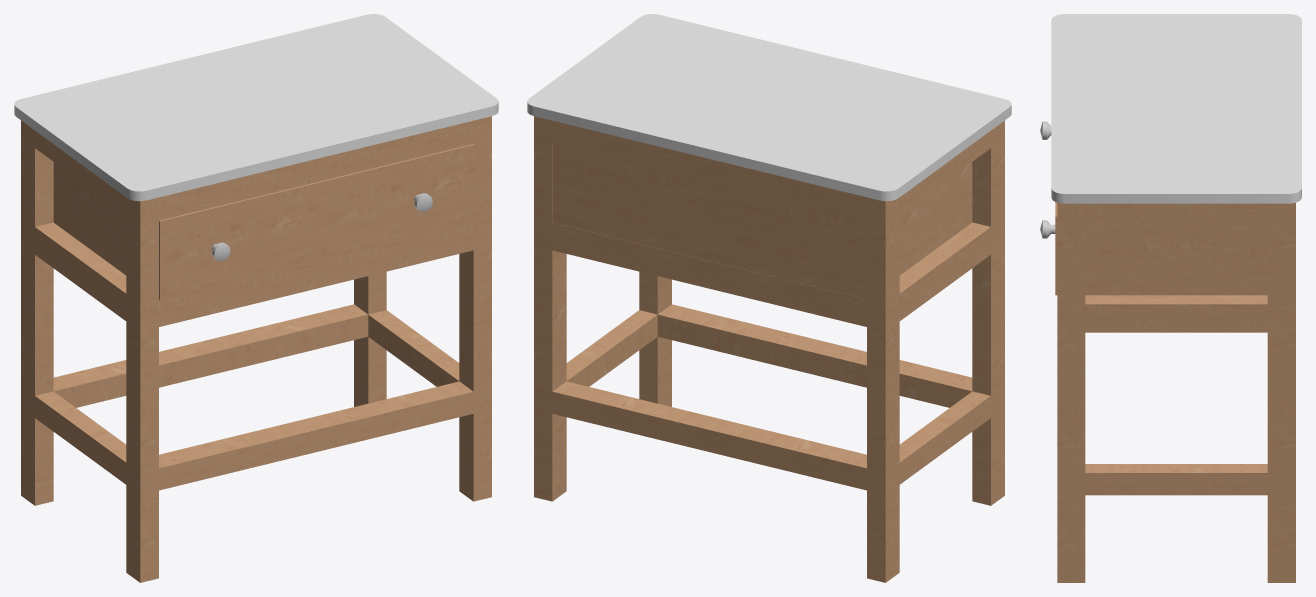
Rendered from bathroom_vanity_01.glb.
3 renders of one model, left to right at view 1: azimuth 30°, elevation 25°; view 2: azimuth 150°, elevation 25°; view 3: azimuth 270°, elevation 25°, orthographic.
Parts seen in each view (by area): view 1: BathroomVanity01, BathroomVanity01Drawer; view 2: BathroomVanity01, BathroomVanity01Drawer; view 3: BathroomVanity01, BathroomVanity01Drawer.
Boxes of the visible parts, left/top/right/bottom form: BathroomVanity01: left=14, top=14, right=498, bottom=582; BathroomVanity01Drawer: left=53, top=144, right=474, bottom=299; BathroomVanity01: left=527, top=14, right=1011, bottom=582; BathroomVanity01Drawer: left=552, top=144, right=972, bottom=299; BathroomVanity01: left=1051, top=14, right=1301, bottom=582; BathroomVanity01Drawer: left=1040, top=121, right=1267, bottom=295.
Bounding box in the file's own units: 0.7845 × 0.7989 × 0.4819.
Materials: 1 (1 with a texture image).
